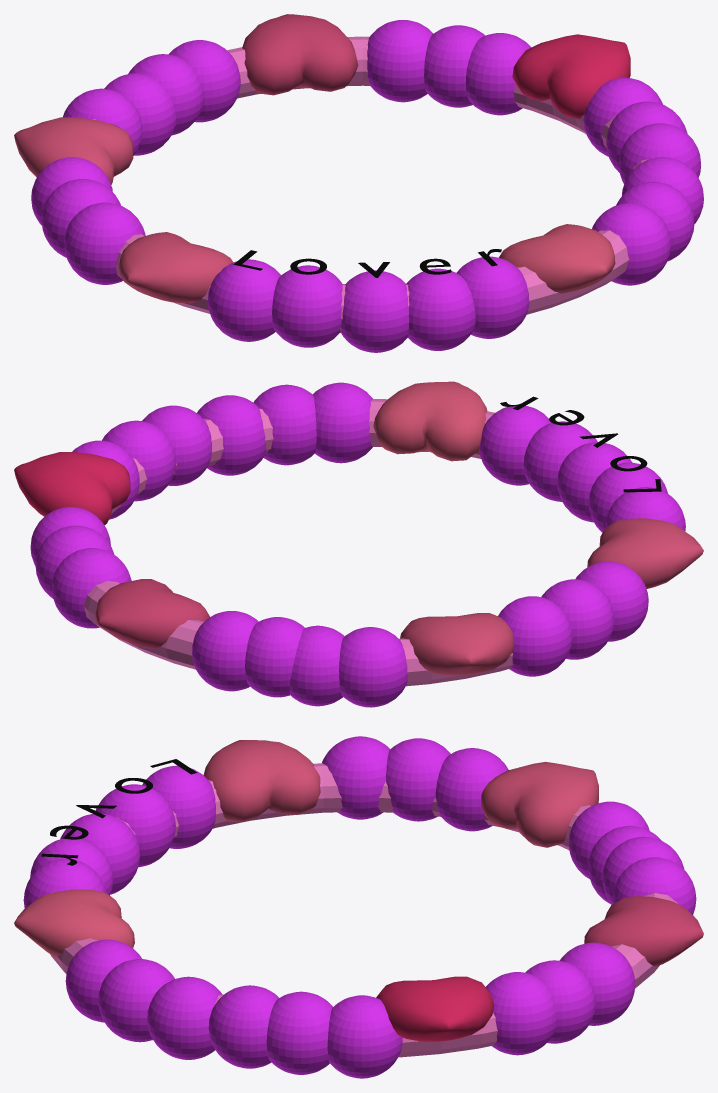
Rendered from Lover_Lover.fbx.
The picture shows the model from 3 angles, top to bottom: view 1: azimuth 30°, elevation 25°; view 2: azimuth 150°, elevation 25°; view 3: azimuth 270°, elevation 25°; orthographic projection. The views are drawn at different scales.
Parts seen in each view (by area): view 1: Vert.042, Vert.039, Vert.043, Torus.022, Vert.044, Vert.041, Sphere.442, Sphere.443, Sphere.445, Sphere.441, Sphere.436, Sphere.435 (+15 smaller); view 2: Vert.044, Vert.039, Vert.041, Vert.042, Vert.043, Torus.022, Sphere.437, Sphere.447, Sphere.432, Sphere.444, Sphere.431, Sphere.430 (+15 smaller); view 3: Vert.043, Vert.041, Vert.039, Torus.022, Vert.044, Vert.042, Sphere.428, Sphere.430, Sphere.429, Sphere.433, Sphere.438, Sphere.431 (+15 smaller).
Boxes of the visible parts, bbox=[...] form: Vert.042: bbox=[242, 14, 358, 95]; Vert.039: bbox=[512, 34, 630, 118]; Vert.043: bbox=[118, 232, 233, 303]; Torus.022: bbox=[92, 36, 653, 332]; Vert.044: bbox=[499, 224, 615, 293]; Vert.041: bbox=[14, 117, 133, 184]; Sphere.442: bbox=[272, 265, 342, 347]; Sphere.443: bbox=[340, 270, 409, 352]; Sphere.445: bbox=[406, 268, 475, 350]; Sphere.441: bbox=[208, 259, 281, 341]; Sphere.436: bbox=[64, 202, 145, 284]; Sphere.435: bbox=[367, 20, 433, 102]; Vert.044: bbox=[373, 381, 487, 461]; Vert.039: bbox=[14, 452, 130, 525]; Vert.041: bbox=[400, 613, 514, 675]; Vert.042: bbox=[95, 579, 209, 648]; Vert.043: bbox=[587, 518, 703, 588]; Torus.022: bbox=[83, 399, 512, 686]; Sphere.437: bbox=[339, 627, 407, 707]; Sphere.447: bbox=[498, 596, 572, 676]; Sphere.432: bbox=[313, 382, 372, 463]; Sphere.444: bbox=[192, 611, 258, 691]; Sphere.431: bbox=[253, 384, 316, 465]; Sphere.430: bbox=[197, 395, 266, 475]; Vert.043: bbox=[203, 740, 320, 822]; Vert.041: bbox=[481, 761, 598, 847]; Vert.039: bbox=[376, 976, 494, 1041]; Torus.022: bbox=[50, 763, 677, 1057]; Vert.044: bbox=[14, 889, 134, 957]; Vert.042: bbox=[584, 896, 703, 966]; Sphere.428: bbox=[327, 995, 402, 1078]; Sphere.430: bbox=[147, 976, 221, 1059]; Sphere.429: bbox=[266, 991, 332, 1074]; Sphere.433: bbox=[486, 972, 556, 1055]; Sphere.438: bbox=[208, 985, 278, 1068]; Sphere.431: bbox=[98, 959, 174, 1042].
Size of the model in its own units: 118 by 17.15 by 116.
